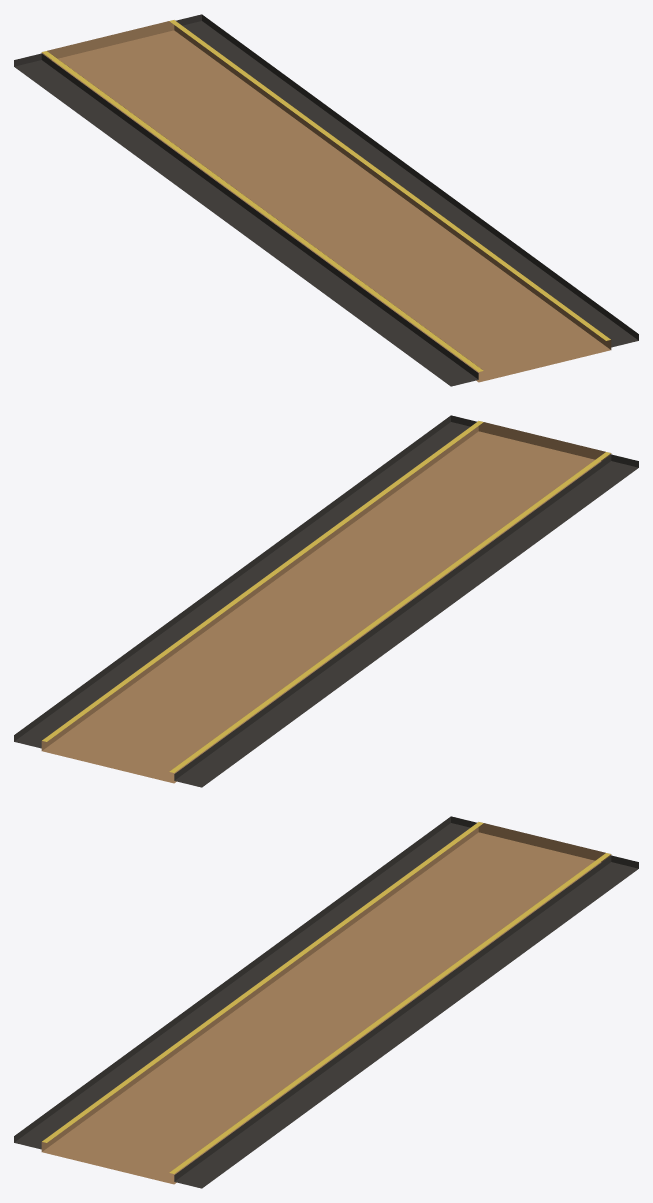
The model's file is bowling_lane_small.glb.
The picture shows the model from 3 angles, top to bottom: view 1: azimuth 30°, elevation 25°; view 2: azimuth 150°, elevation 25°; view 3: azimuth 330°, elevation 25°; orthographic projection.
Visible parts, largest first — view 1: Lane; view 2: Lane; view 3: Lane.
Boxes of the visible parts, x1,y1,x2,y2 form: Lane: (14, 14, 638, 386); Lane: (14, 415, 638, 787); Lane: (14, 816, 638, 1188).
Size of the model in its own units: 1.49 by 0.08 by 6.
